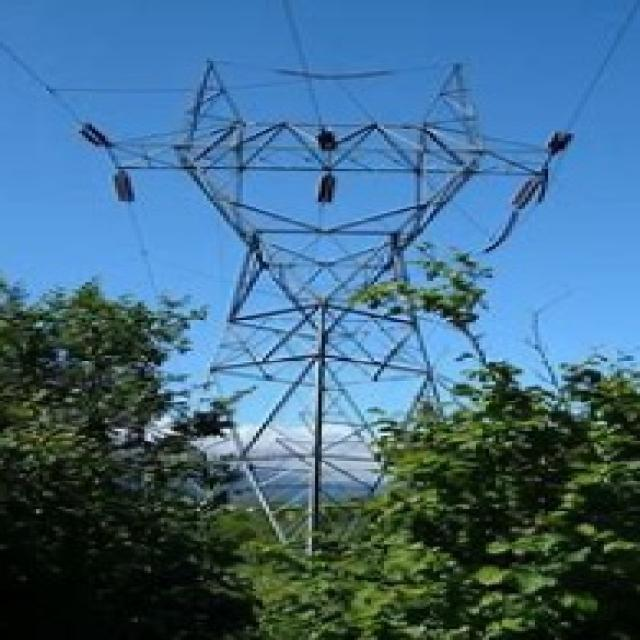utility poles: (98, 272, 294, 564), (353, 272, 532, 556)
